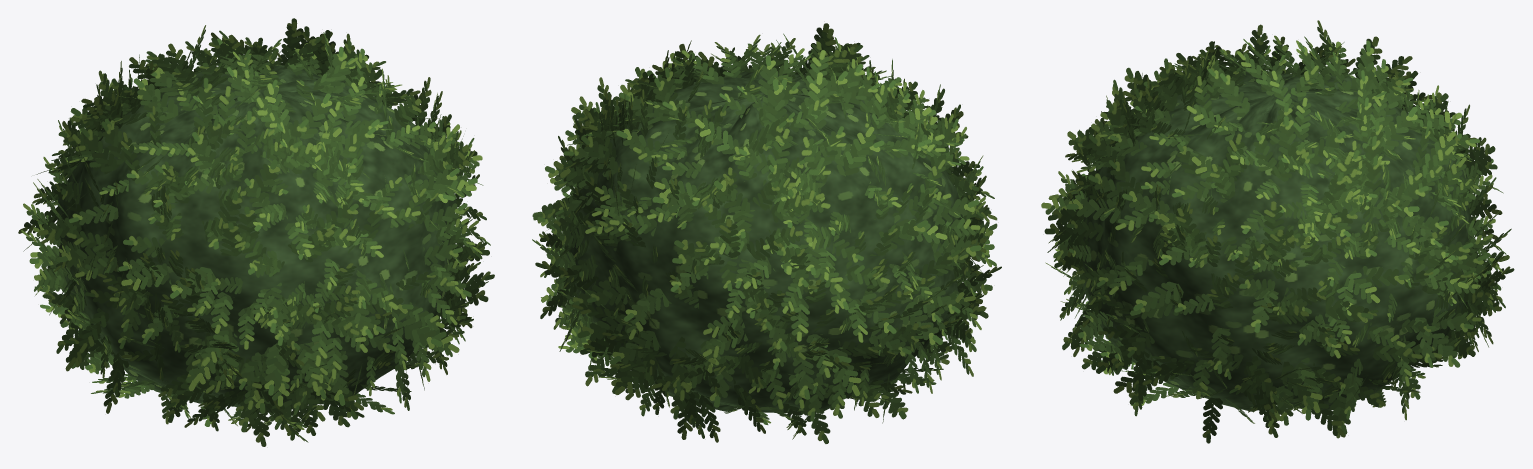
3 renders of one model, left to right at view 1: azimuth 30°, elevation 25°; view 2: azimuth 150°, elevation 25°; view 3: azimuth 270°, elevation 25°, orthographic.
Visible parts, largest first — view 1: leaves_0, LeafMass; view 2: leaves_0, LeafMass; view 3: leaves_0, LeafMass.
Part boxes in pixels (x1,y1,x2,y2): leaves_0: (18,18,494,446); LeafMass: (57,64,456,412); leaves_0: (532,23,1001,443); LeafMass: (567,68,962,412); leaves_0: (1041,20,1514,443); LeafMass: (1082,72,1476,411).
Bounding box in the file's own units: 1.12 × 0.8689 × 1.14.
2 materials, 2 textured.
